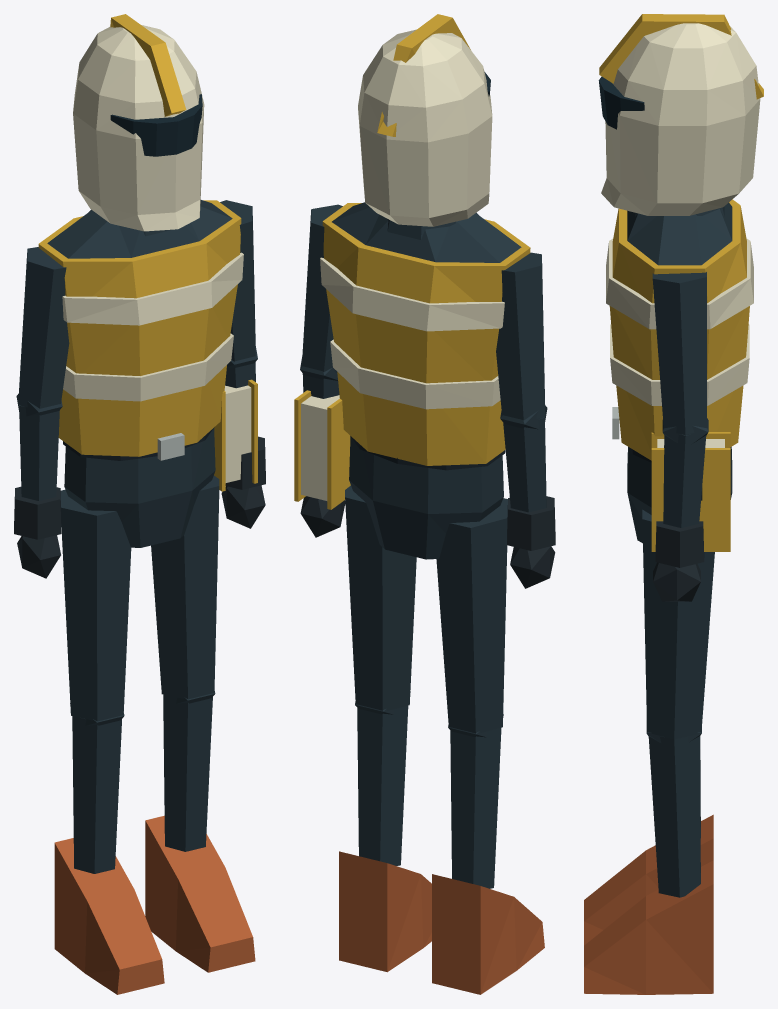
The model's file is mara-vale.glb.
The picture shows the model from 3 angles, left to right: view 1: azimuth 30°, elevation 25°; view 2: azimuth 150°, elevation 25°; view 3: azimuth 270°, elevation 25°; orthographic projection. The views are drawn at different scales.
Visible parts, largest first — view 1: chest_mesh, head_mesh, shin_r_mesh, shin_l_mesh, thigh_r_mesh, thigh_l_mesh, hips_mesh, upper_arm_r_mesh, forearm_r_mesh, prop_mesh, upper_arm_l_mesh, forearm_l_mesh (+2 smaller); view 2: chest_mesh, head_mesh, shin_r_mesh, shin_l_mesh, thigh_r_mesh, thigh_l_mesh, hips_mesh, upper_arm_r_mesh, forearm_r_mesh, prop_mesh, upper_arm_l_mesh, forearm_l_mesh (+1 smaller); view 3: head_mesh, chest_mesh, shin_l_mesh, thigh_l_mesh, upper_arm_l_mesh, forearm_l_mesh, prop_mesh, shin_r_mesh, head_detail, hips_mesh.
Boxes of the visible parts, x1,y1,x2,y2 form: chest_mesh: [38, 200, 243, 456]; head_mesh: [73, 25, 204, 231]; shin_r_mesh: [54, 716, 164, 994]; shin_l_mesh: [145, 694, 255, 972]; thigh_r_mesh: [60, 489, 131, 725]; thigh_l_mesh: [151, 475, 219, 703]; hips_mesh: [63, 427, 215, 547]; upper_arm_r_mesh: [16, 247, 69, 416]; forearm_r_mesh: [14, 405, 61, 578]; prop_mesh: [214, 379, 257, 491]; upper_arm_l_mesh: [220, 200, 257, 368]; forearm_l_mesh: [221, 362, 265, 528]; chest_mesh: [320, 202, 530, 465]; head_mesh: [358, 29, 492, 226]; shin_r_mesh: [432, 728, 544, 994]; shin_l_mesh: [339, 705, 431, 972]; thigh_r_mesh: [436, 498, 507, 737]; thigh_l_mesh: [345, 485, 416, 714]; hips_mesh: [349, 436, 505, 559]; upper_arm_r_mesh: [496, 252, 547, 429]; forearm_r_mesh: [503, 417, 555, 588]; prop_mesh: [294, 390, 350, 509]; upper_arm_l_mesh: [300, 204, 342, 380]; forearm_l_mesh: [300, 373, 345, 537]; head_mesh: [598, 23, 760, 215]; chest_mesh: [606, 199, 753, 460]; shin_l_mesh: [584, 736, 713, 994]; thigh_l_mesh: [642, 509, 714, 742]; upper_arm_l_mesh: [652, 272, 708, 444]; forearm_l_mesh: [653, 434, 706, 601]; prop_mesh: [651, 432, 730, 551]; shin_r_mesh: [584, 736, 713, 945]; head_detail: [599, 14, 763, 99]; hips_mesh: [627, 447, 732, 543].
Size of the model in its own units: 0.532 by 1.84 by 0.3191.
